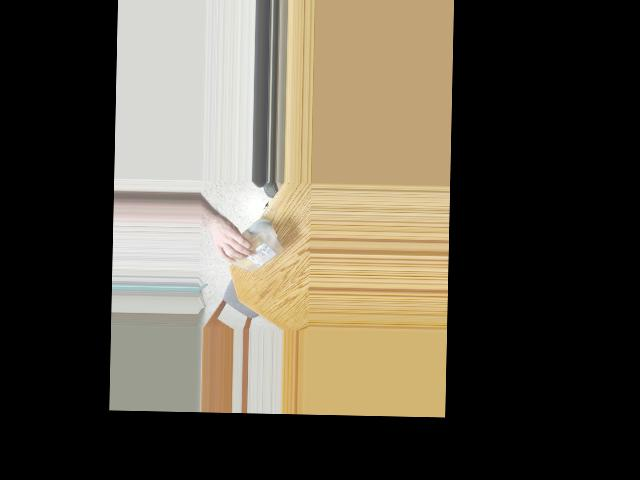cheese: (217, 220, 284, 274)
